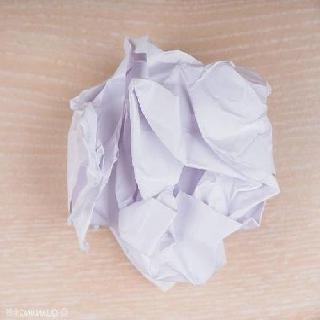8/可回收垃圾/纸: (64, 34, 280, 289)
